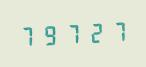nine: (40, 21, 61, 47)
seven: (18, 22, 39, 48), (62, 20, 83, 46), (106, 18, 127, 44)
two: (84, 19, 105, 45)
